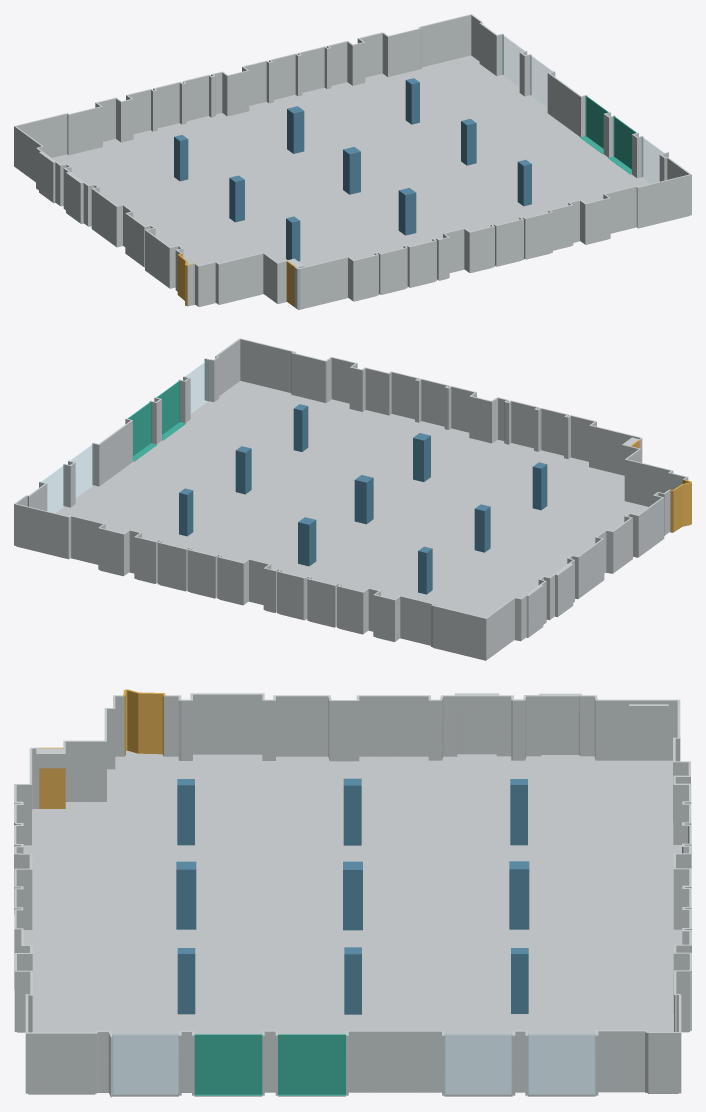
Rendered from JRRF_venue_layout.glb.
3 renders of one model, top to bottom at view 1: azimuth 30°, elevation 25°; view 2: azimuth 150°, elevation 25°; view 3: azimuth 270°, elevation 25°, orthographic. The views are drawn at different scales.
Parts seen in each view (by area): view 1: Floor_envelope_scan_based, Wall_component_01, Wall_component_03, C12, C22, C32, Entry_zone_B_bay, Entry_zone_A_bay, Glass_2_bay, Glass_3_bay, C21, C23 (+8 smaller); view 2: Floor_envelope_scan_based, Wall_component_01, Wall_component_03, C22, C32, C12, C21, C23, Entry_zone_B_bay, Glass_2_bay, Entry_zone_A_bay, Glass_1_bay (+7 smaller); view 3: Floor_envelope_scan_based, Wall_component_01, Wall_component_03, Glass_3_bay, Entry_zone_A_bay, Entry_zone_B_bay, Glass_2_bay, Glass_1_bay, C32, C12, C22, C21 (+11 smaller).
Boxes of the visible parts, x1,y1,x2,y2 form: Floor_envelope_scan_based: (52,55,689,309); Wall_component_01: (14,14,691,309); Wall_component_03: (547,71,587,136); C12: (398,188,416,235); C22: (343,146,360,194); C32: (287,106,304,153); Entry_zone_B_bay: (586,97,607,148); Entry_zone_A_bay: (614,118,634,169); Glass_2_bay: (530,57,551,107); Glass_3_bay: (502,36,523,86); C21: (229,175,244,222); C23: (461,118,476,165); Floor_envelope_scan_based: (16,381,689,660); Wall_component_01: (14,338,691,660); Wall_component_03: (92,418,132,486); C22: (354,475,373,524); C32: (298,517,316,566); C12: (413,433,430,481); C21: (474,504,490,552); C23: (235,446,251,494); Entry_zone_B_bay: (129,403,150,455); Glass_2_bay: (72,445,93,497); Entry_zone_A_bay: (158,382,179,434); Glass_1_bay: (187,361,208,413); Floor_envelope_scan_based: (17,750,689,1096); Wall_component_01: (14,689,691,1097); Wall_component_03: (346,1030,444,1095); Glass_3_bay: (528,1036,595,1094); Entry_zone_A_bay: (195,1036,261,1094); Entry_zone_B_bay: (279,1036,345,1094); Glass_2_bay: (445,1036,511,1094); Glass_1_bay: (112,1036,178,1094); C32: (509,861,529,929); C12: (176,861,196,929); C22: (343,861,362,930); C21: (343,778,361,845).
Size of the model in its own units: 49.53 by 4.11 by 40.73.
